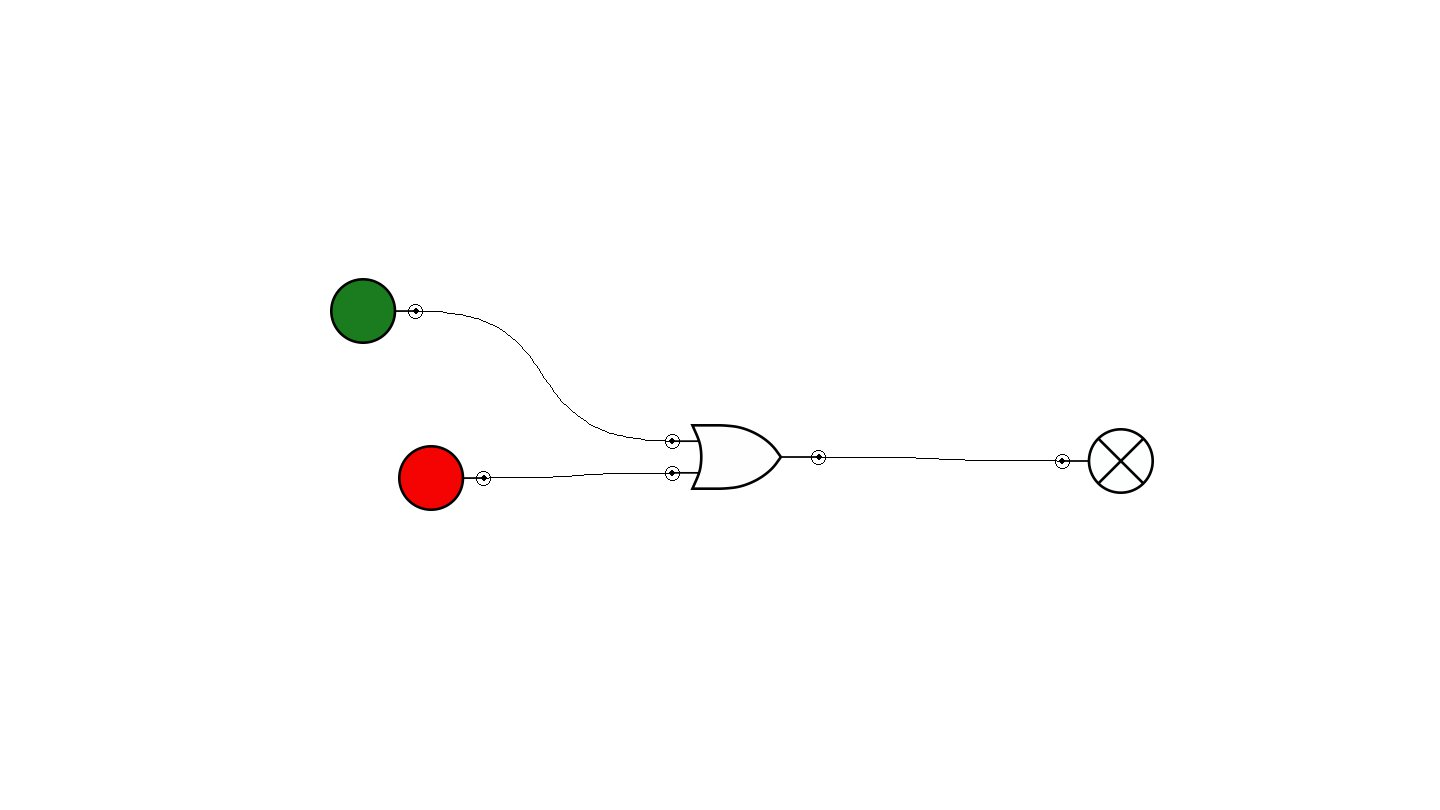bulb: (1055, 428, 1154, 494)
or: (665, 424, 826, 490)
switch_False: (398, 445, 491, 511)
switch_True: (330, 278, 423, 344)
